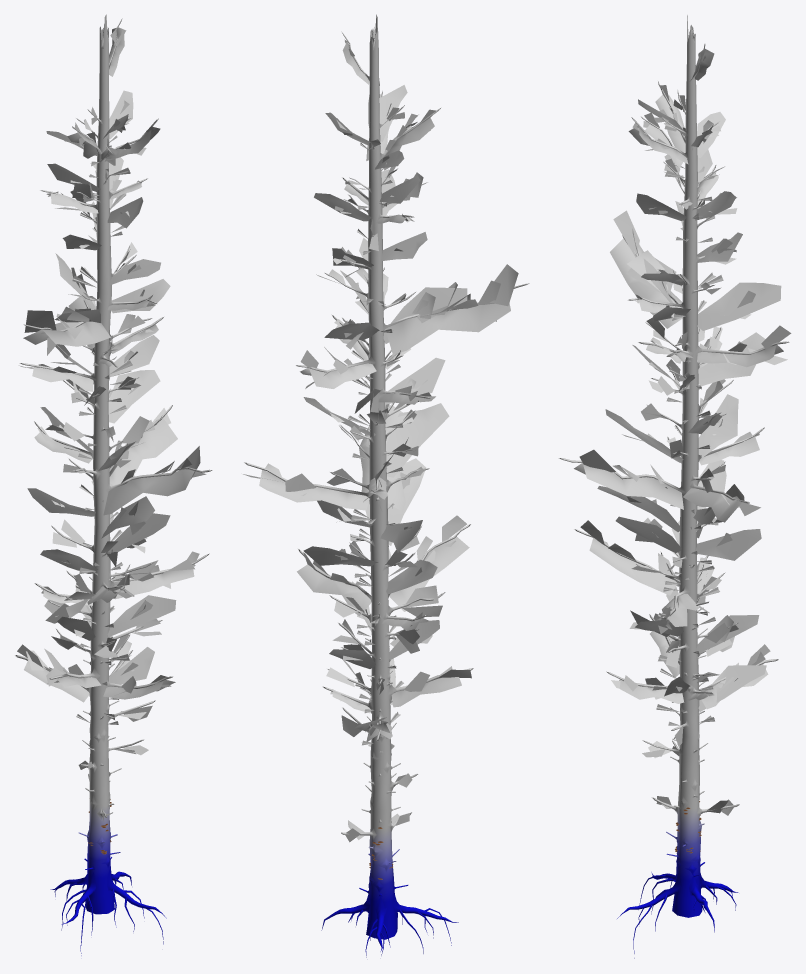
Rendered from Dead_tree1_LOD1.fbx.
The picture shows the model from 3 angles, left to right: view 1: azimuth 30°, elevation 25°; view 2: azimuth 150°, elevation 25°; view 3: azimuth 270°, elevation 25°; orthographic projection. The views are drawn at different scales.
Parts seen in each view (by area): view 1: polySurface3354; view 2: polySurface3354; view 3: polySurface3354.
Part boxes in pixels (bbox=[...]): polySurface3354: bbox=[14, 14, 212, 955]; polySurface3354: bbox=[243, 14, 529, 957]; polySurface3354: bbox=[558, 15, 791, 958].
Size of the model in its own units: 635 by 2614 by 593.
